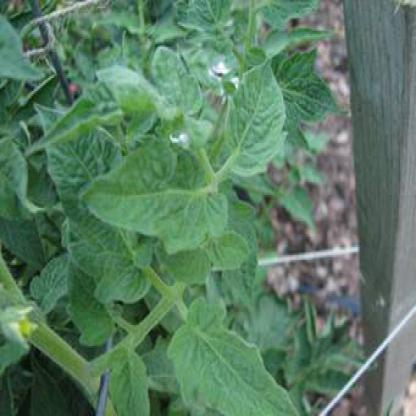Tomato leaf mosaic virus: (157, 293, 328, 414), (74, 137, 231, 257), (218, 62, 287, 189), (142, 44, 205, 117), (99, 338, 151, 414), (91, 255, 152, 310), (203, 234, 246, 271)
